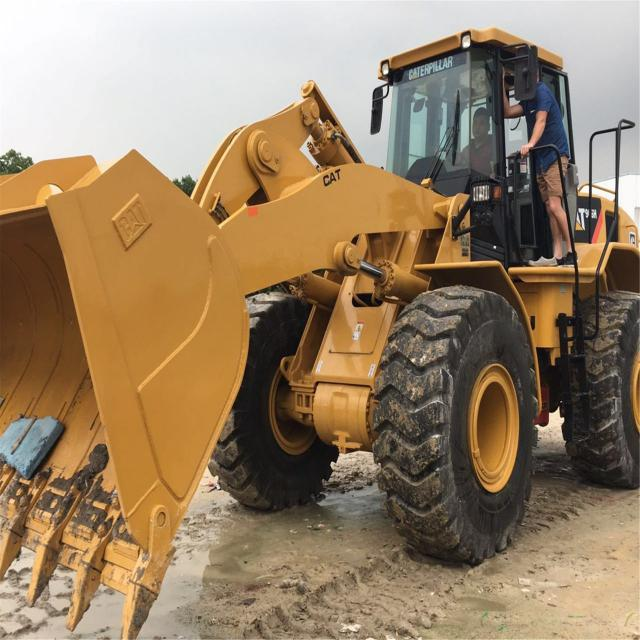buldozerpayloadergrader: (1, 27, 640, 567)
